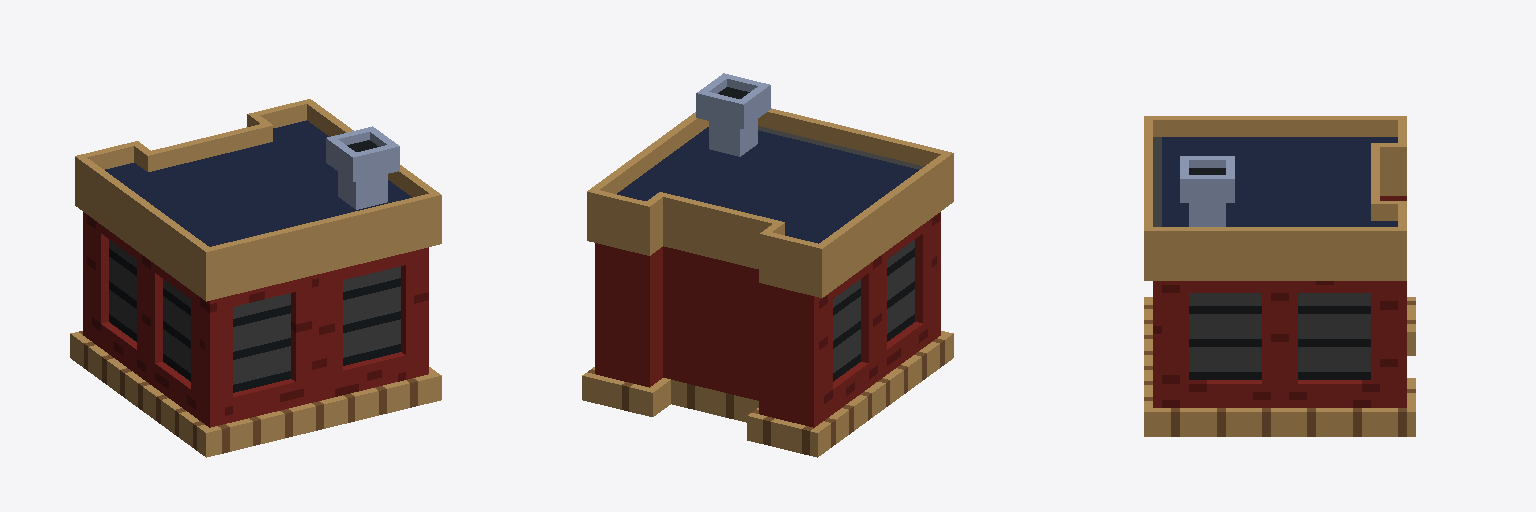
3 renders of one model, left to right at view 1: azimuth 30°, elevation 25°; view 2: azimuth 150°, elevation 25°; view 3: azimuth 270°, elevation 25°, orthographic.
Visible parts, largest first — view 1: object 1; view 2: object 1; view 3: object 1.
Part boxes in pixels (bbox=[...]): object 1: bbox=[70, 99, 441, 457]; object 1: bbox=[582, 73, 953, 457]; object 1: bbox=[1144, 116, 1415, 436].
Size of the model in its own units: 3 by 3 by 3.
Materials: 1 (1 with a texture image).